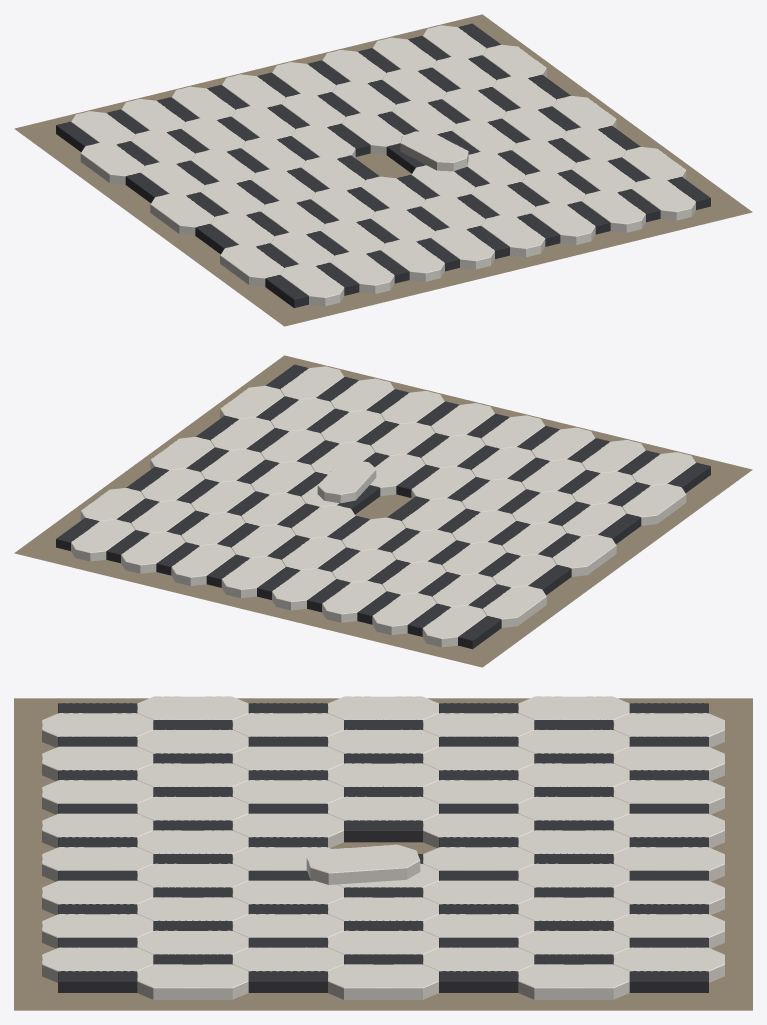
File: terilgan.glb
3 renders of one model, top to bottom at view 1: azimuth 30°, elevation 25°; view 2: azimuth 150°, elevation 25°; view 3: azimuth 270°, elevation 25°, orthographic. The views are drawn at different scales.
Parts seen in each view (by area): view 1: qum, t.062, t.016, t.002, t.007, t.082, t.026, t.054, t.004, t.096, t.013, t.068 (+60 smaller); view 2: qum, t.062, t.002, t.016, t.007, t.109, t.056, t.084, t.028, t.116, t.042, t.098 (+61 smaller); view 3: qum, t.062, t.108, t.118, t.115, t.013, t.042, t.040, t.050, t.060, t.070, t.068 (+107 smaller).
Part boxes in pixels (<box>): qum: <box>14,14,752,326</box>; t.062: <box>400,131,468,171</box>; t.016: <box>80,143,144,184</box>; t.002: <box>220,245,284,286</box>; t.007: <box>150,194,214,235</box>; t.082: <box>581,190,645,232</box>; t.026: <box>380,240,444,281</box>; t.054: <box>481,215,545,257</box>; t.004: <box>280,264,344,306</box>; t.096: <box>632,178,695,220</box>; t.013: <box>330,252,394,293</box>; t.068: <box>531,203,595,244</box>; qum: <box>14,355,752,667</box>; t.062: <box>317,460,376,503</box>; t.002: <box>622,484,686,525</box>; t.016: <box>482,586,546,627</box>; t.007: <box>552,535,616,576</box>; t.109: <box>121,531,185,573</box>; t.056: <box>322,581,386,622</box>; t.084: <box>221,556,285,598</box>; t.028: <box>422,605,486,647</box>; t.116: <box>71,519,134,561</box>; t.042: <box>372,593,436,634</box>; t.098: <box>171,544,235,585</box>; qum: <box>14,698,752,1010</box>; t.062: <box>306,844,420,884</box>; t.108: <box>137,964,248,999</box>; t.118: <box>518,964,629,999</box>; t.115: <box>328,964,438,999</box>; t.013: <box>42,746,153,780</box>; t.042: <box>613,746,724,780</box>; t.040: <box>42,813,153,847</box>; t.050: <box>232,813,343,847</box>; t.060: <box>423,813,534,847</box>; t.070: <box>613,813,724,847</box>; t.068: <box>42,880,153,914</box>.
Bounding box in the file's own units: 1.66 × 0.062 × 1.66.
